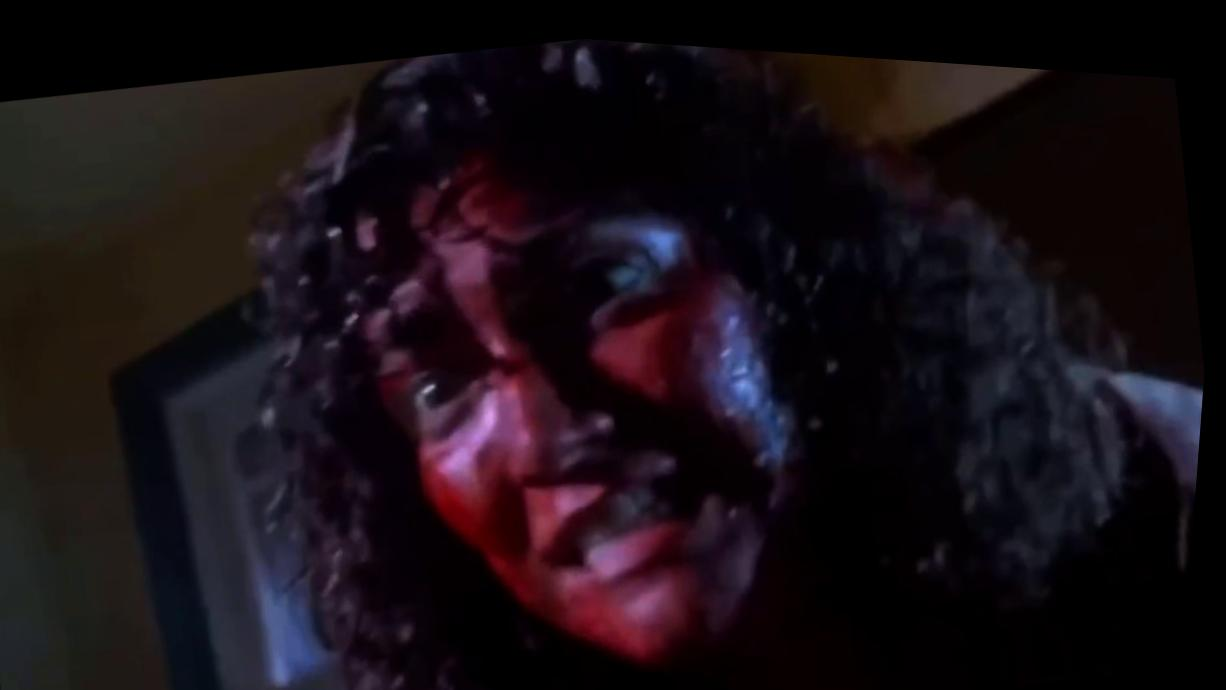Fire: (364, 147, 803, 661)
